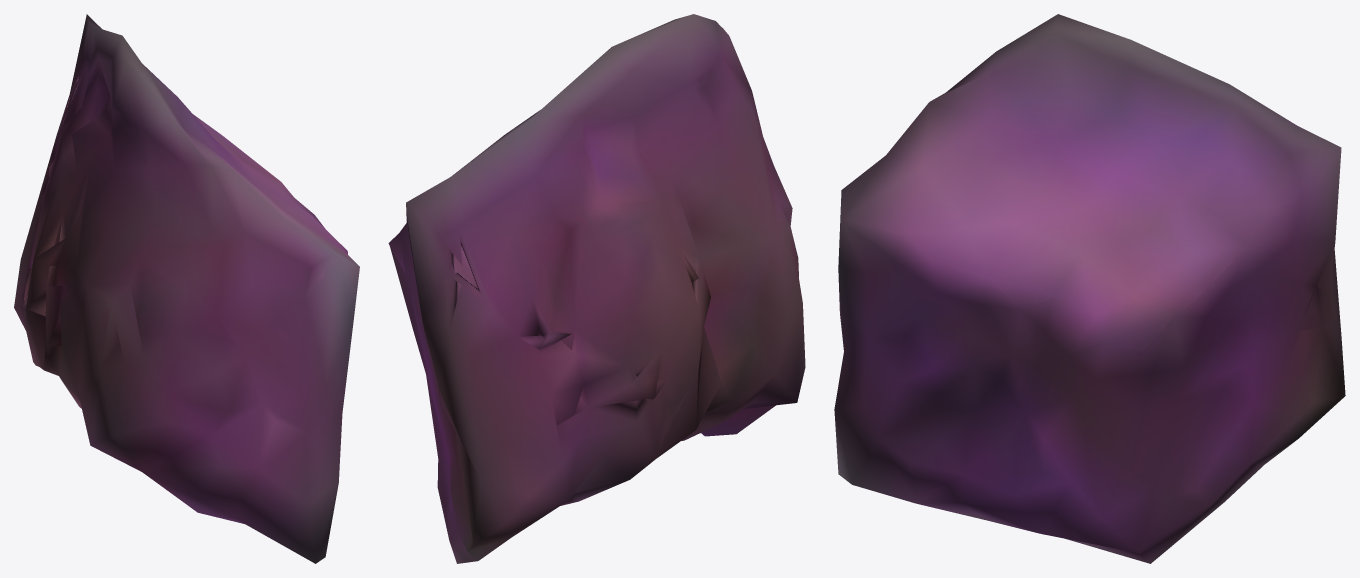
Rendered from sporestone_block.glb.
The picture shows the model from 3 angles, left to right: view 1: azimuth 30°, elevation 25°; view 2: azimuth 150°, elevation 25°; view 3: azimuth 270°, elevation 25°; orthographic projection. The views are drawn at different scales.
Visible parts, largest first — view 1: model; view 2: model; view 3: model.
Boxes of the visible parts, box(x1,y1,x2,y2) form: model: box(14, 14, 359, 563); model: box(388, 14, 805, 563); model: box(834, 14, 1345, 563).
Bounding box in the file's own units: 0.2383 × 0.3976 × 0.3887.
Materials: 1 (1 with a texture image).
